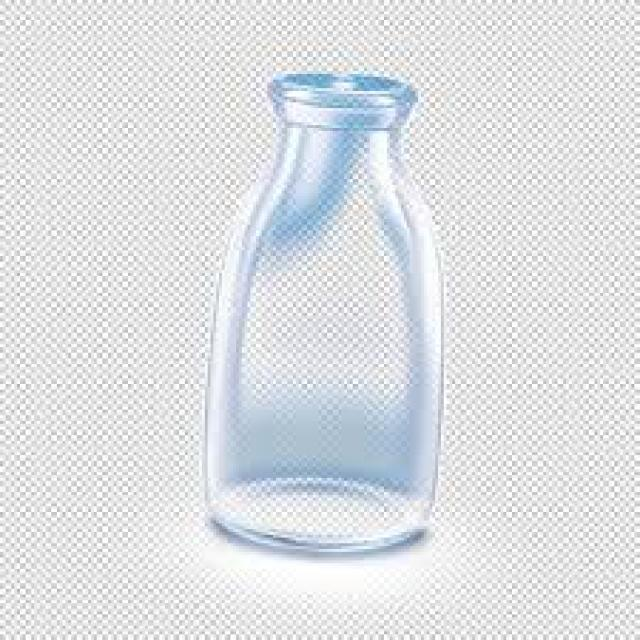glass: (205, 68, 435, 555)
